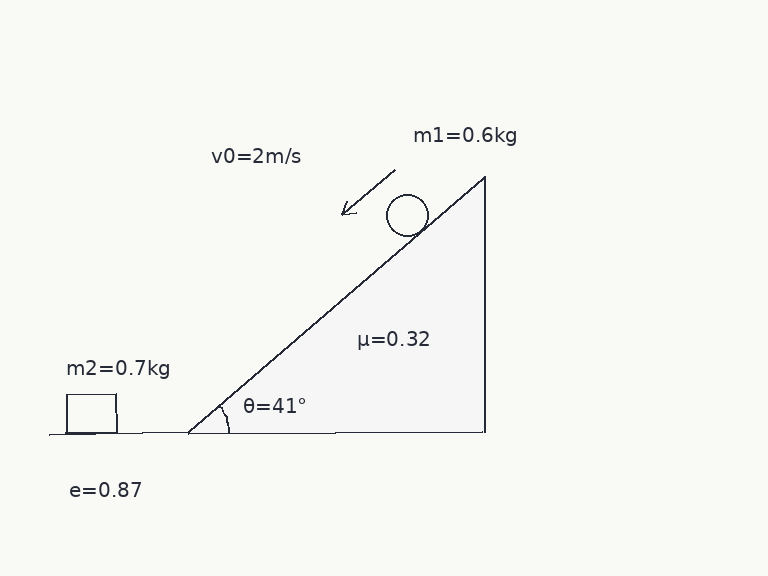ball: (384, 192, 430, 238)
block: (63, 393, 119, 434)
ramp: (187, 174, 485, 434)
